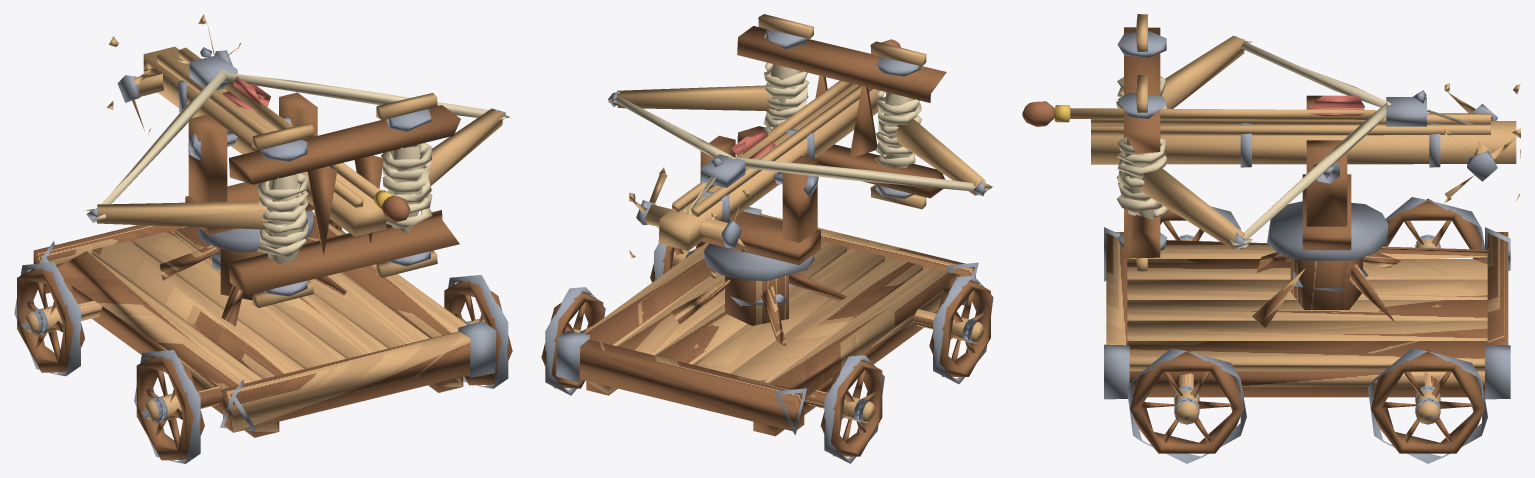
The picture shows the model from 3 angles, left to right: view 1: azimuth 30°, elevation 25°; view 2: azimuth 150°, elevation 25°; view 3: azimuth 270°, elevation 25°; orthographic projection. The views are drawn at different scales.
Parts seen in each view (by area): view 1: ballista_crossbow, ballista_body, ballista_turret, ballista_wheel_front_left, ballista_wheel_rear_left, ballista_wheel_front_right, ballista_fittings; view 2: ballista_body, ballista_crossbow, ballista_turret, ballista_wheel_rear_left, ballista_wheel_front_left, ballista_wheel_rear_right, ballista_fittings, ballista_wheel_front_right; view 3: ballista_body, ballista_crossbow, ballista_turret, ballista_wheel_front_right, ballista_wheel_rear_right, ballista_fittings, ballista_wheel_rear_left, ballista_wheel_front_left.
Boxes of the visible parts, box(x1,y1,x2,y2) form: ballista_crossbow: box(85, 14, 510, 307); ballista_body: box(33, 212, 470, 437); ballista_turret: box(185, 92, 317, 252); ballista_wheel_front_left: box(134, 350, 204, 463); ballista_wheel_rear_left: box(14, 262, 84, 376); ballista_wheel_front_right: box(444, 275, 512, 388); ballista_fittings: box(40, 241, 496, 431); ballista_body: box(579, 214, 975, 436); ballista_crossbow: box(608, 14, 992, 279); ballista_turret: box(700, 135, 820, 280); ballista_wheel_rear_left: box(820, 355, 884, 463); ballista_wheel_front_left: box(929, 275, 993, 383); ballista_wheel_rear_right: box(541, 287, 605, 395); ballista_fittings: box(556, 207, 978, 434); ballista_wheel_front_right: box(650, 241, 706, 282); ballista_body: box(1106, 232, 1508, 397); ballista_crossbow: box(1022, 14, 1520, 271); ballista_turret: box(1267, 95, 1388, 260); ballista_wheel_front_right: box(1127, 348, 1246, 463); ballista_wheel_rear_right: box(1368, 348, 1487, 463); ballista_fittings: box(1104, 227, 1510, 399); ballista_wheel_rear_left: box(1383, 197, 1484, 258); ballista_wheel_front_left: box(1160, 206, 1240, 240).
Bounding box in the file's own units: 2.52 × 1.86 × 2.57.
8 materials, 1 textured.
